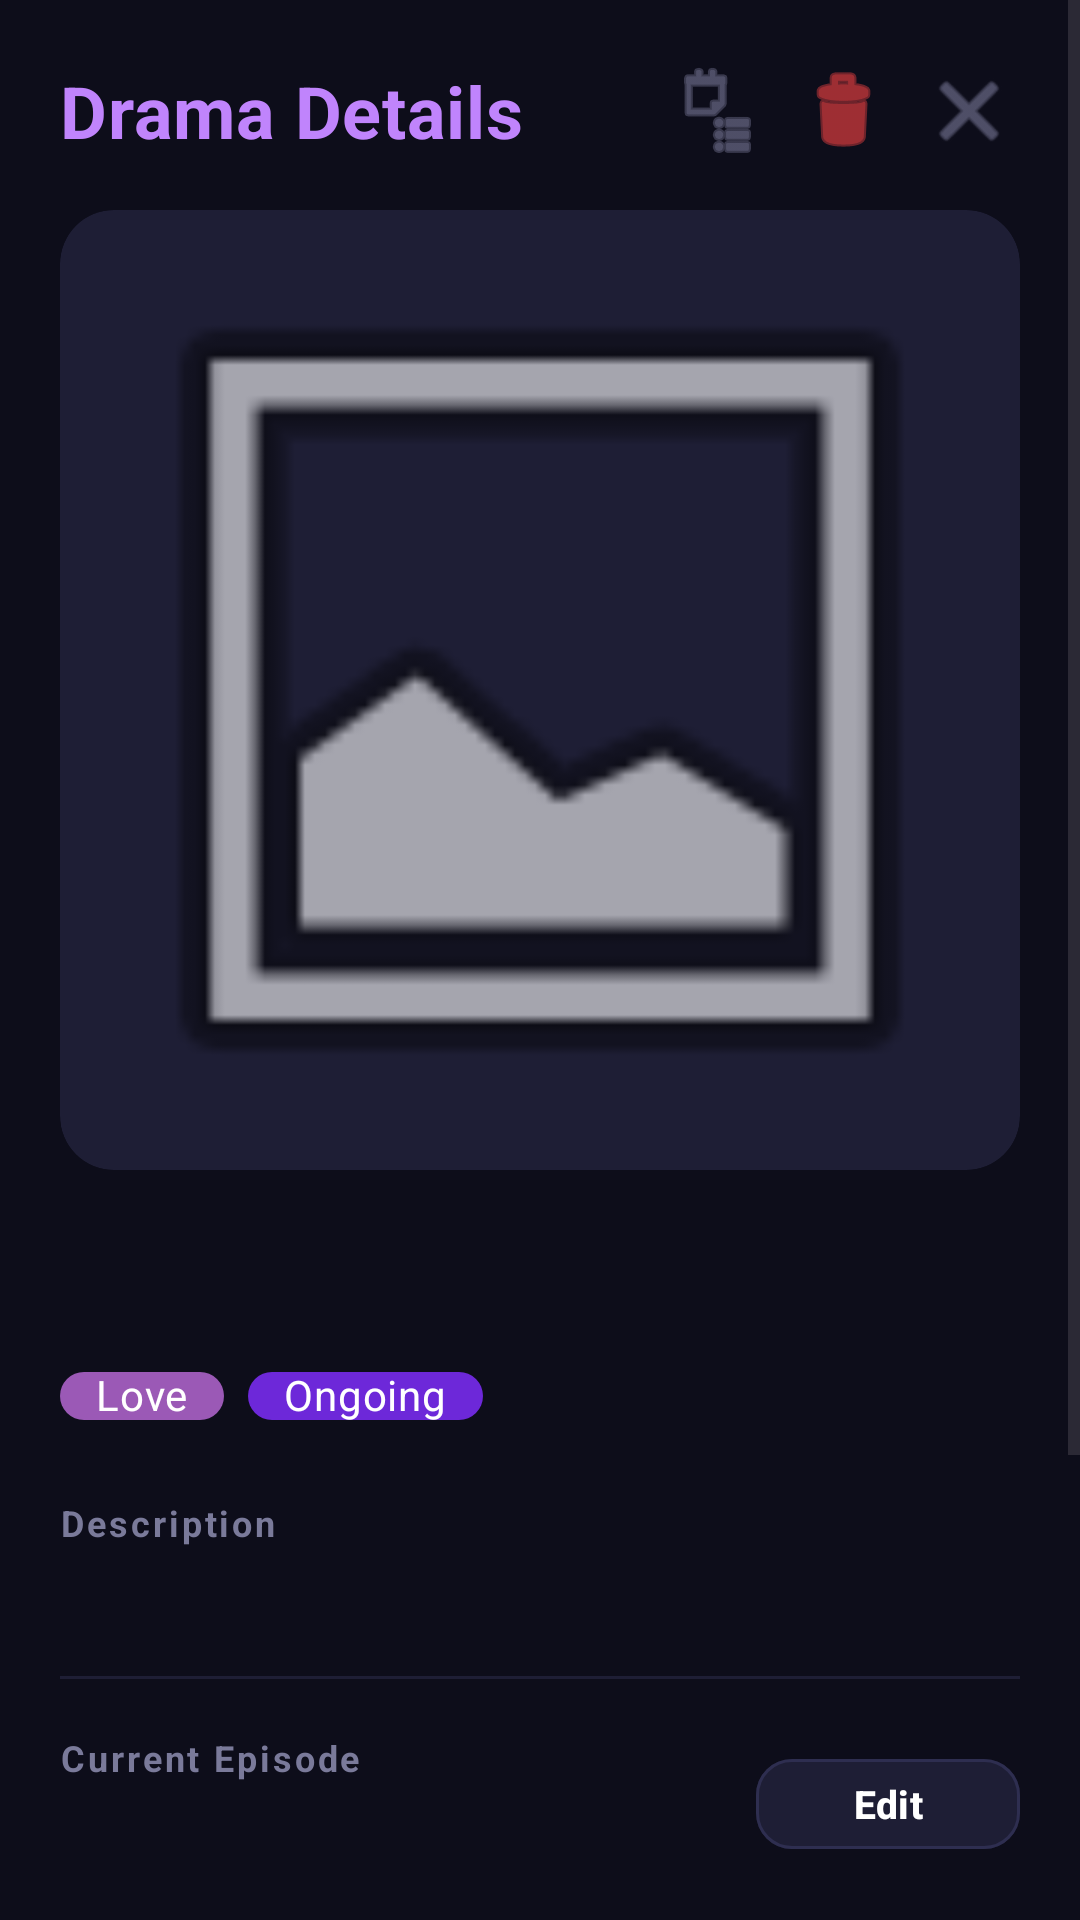

Screen size 1080 × 1920. Icon name, then its box in pixels as (x1, y1, x2, y2):
Close: (939, 81, 999, 141)
Delete: (816, 72, 871, 147)
